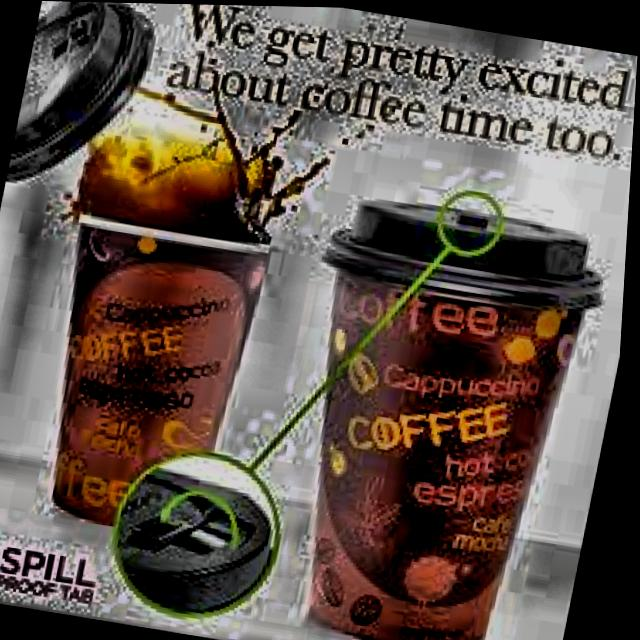Cup: (266, 223, 599, 640)
